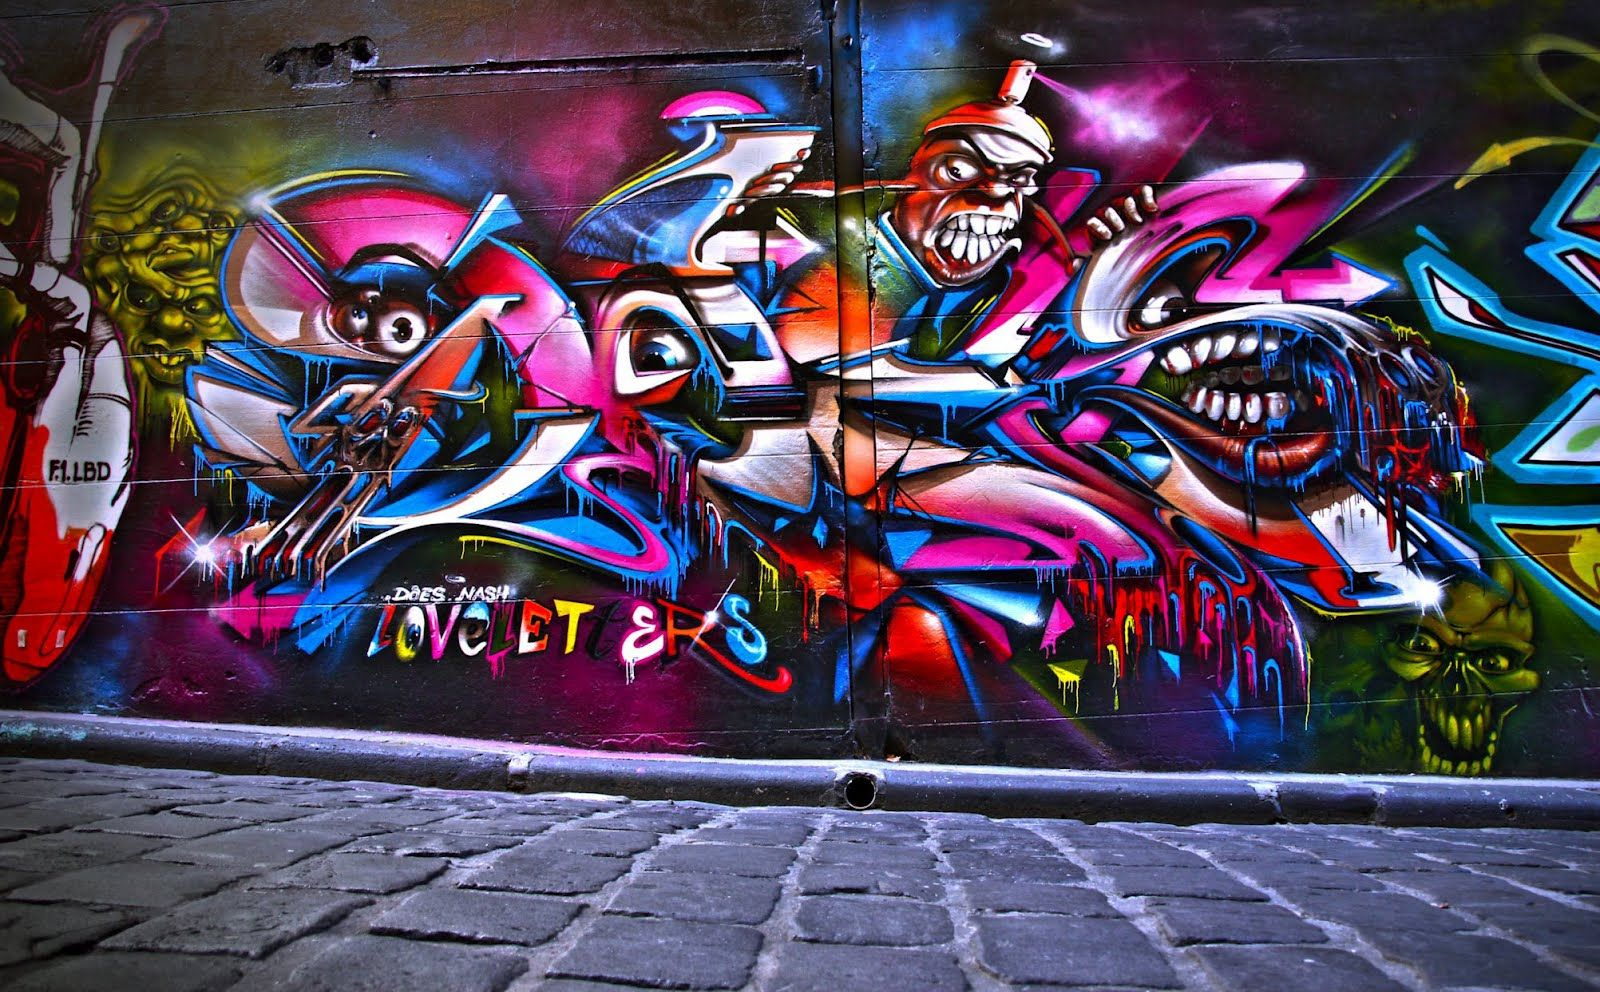graphite: (221, 53, 1517, 727), (1, 249, 157, 693), (1389, 568, 1562, 765)
